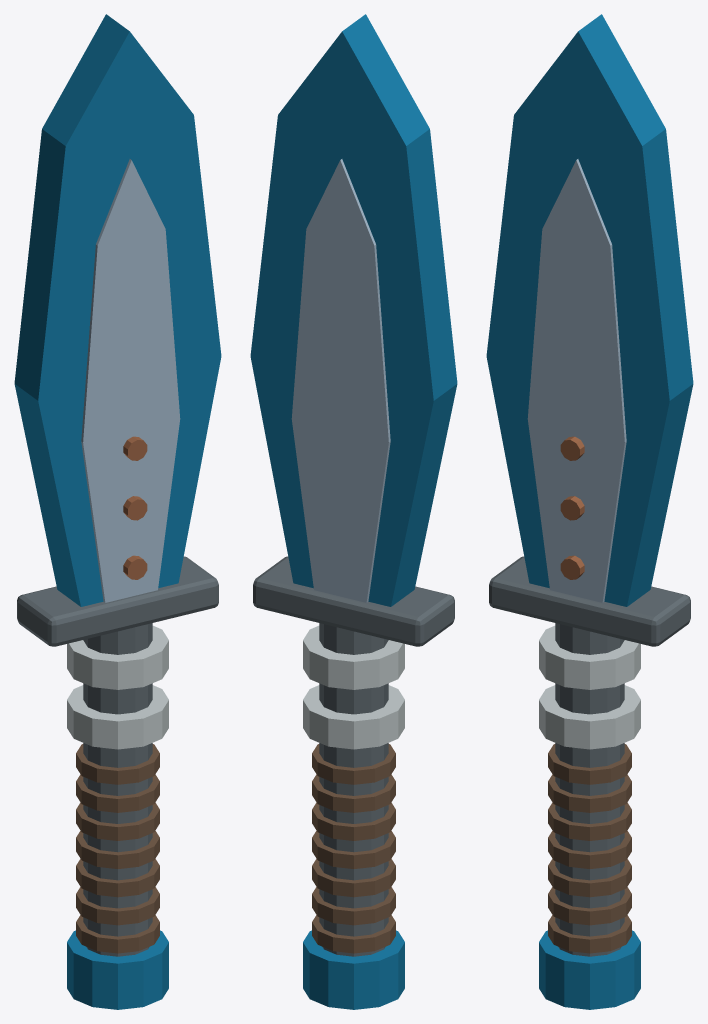
The model's file is ConvoyEdge.fbx.
3 views of the same model, side by side, from view 1: azimuth 30°, elevation 25°; view 2: azimuth 150°, elevation 25°; view 3: azimuth 330°, elevation 25° (orthographic).
Visible parts, largest first — view 1: Silhouette.012, Noyau.012, Manche.012, Garde.012, Pommeau.012, Collier.024, Collier.025, Bande_06.012, Bande_01.012, Bande_02.012, Bande_05.012, Bande_00.012 (+2 smaller); view 2: Silhouette.012, Noyau.012, Manche.012, Garde.012, Pommeau.012, Collier.024, Collier.025, Bande_06.012, Bande_01.012, Bande_02.012, Bande_05.012, Bande_00.012 (+2 smaller); view 3: Silhouette.012, Noyau.012, Manche.012, Garde.012, Pommeau.012, Collier.024, Collier.025, Bande_06.012, Bande_01.012, Bande_02.012, Bande_05.012, Bande_00.012 (+2 smaller).
Boxes of the visible parts, left/top/right/bottom form: Silhouette.012: left=14, top=14, right=221, bottom=606; Noyau.012: left=81, top=159, right=180, bottom=602; Manche.012: left=83, top=623, right=152, bottom=956; Garde.012: left=17, top=556, right=218, bottom=646; Pommeau.012: left=67, top=930, right=168, bottom=1009; Collier.024: left=67, top=685, right=168, bottom=749; Collier.025: left=67, top=625, right=168, bottom=689; Bande_06.012: left=76, top=744, right=159, bottom=784; Bande_01.012: left=76, top=887, right=159, bottom=925; Bande_02.012: left=76, top=859, right=159, bottom=897; Bande_05.012: left=76, top=774, right=159, bottom=812; Bande_00.012: left=76, top=915, right=159, bottom=953; Silhouette.012: left=250, top=14, right=457, bottom=606; Noyau.012: left=291, top=159, right=390, bottom=602; Manche.012: left=319, top=623, right=388, bottom=956; Garde.012: left=253, top=556, right=454, bottom=646; Pommeau.012: left=303, top=930, right=404, bottom=1009; Collier.024: left=303, top=685, right=404, bottom=749; Collier.025: left=303, top=625, right=404, bottom=689; Bande_06.012: left=312, top=744, right=395, bottom=784; Bande_01.012: left=312, top=887, right=395, bottom=925; Bande_02.012: left=312, top=859, right=395, bottom=897; Bande_05.012: left=312, top=774, right=395, bottom=812; Bande_00.012: left=312, top=915, right=395, bottom=953; Silhouette.012: left=486, top=14, right=693, bottom=606; Noyau.012: left=527, top=159, right=626, bottom=602; Manche.012: left=555, top=623, right=624, bottom=956; Garde.012: left=489, top=556, right=690, bottom=646; Pommeau.012: left=539, top=930, right=640, bottom=1009; Collier.024: left=539, top=685, right=640, bottom=749; Collier.025: left=539, top=625, right=640, bottom=689; Bande_06.012: left=548, top=744, right=631, bottom=784; Bande_01.012: left=548, top=887, right=631, bottom=925; Bande_02.012: left=548, top=859, right=631, bottom=897; Bande_05.012: left=548, top=774, right=631, bottom=812; Bande_00.012: left=548, top=915, right=631, bottom=953.
Size of the model in its own units: 58 by 292 by 28.
